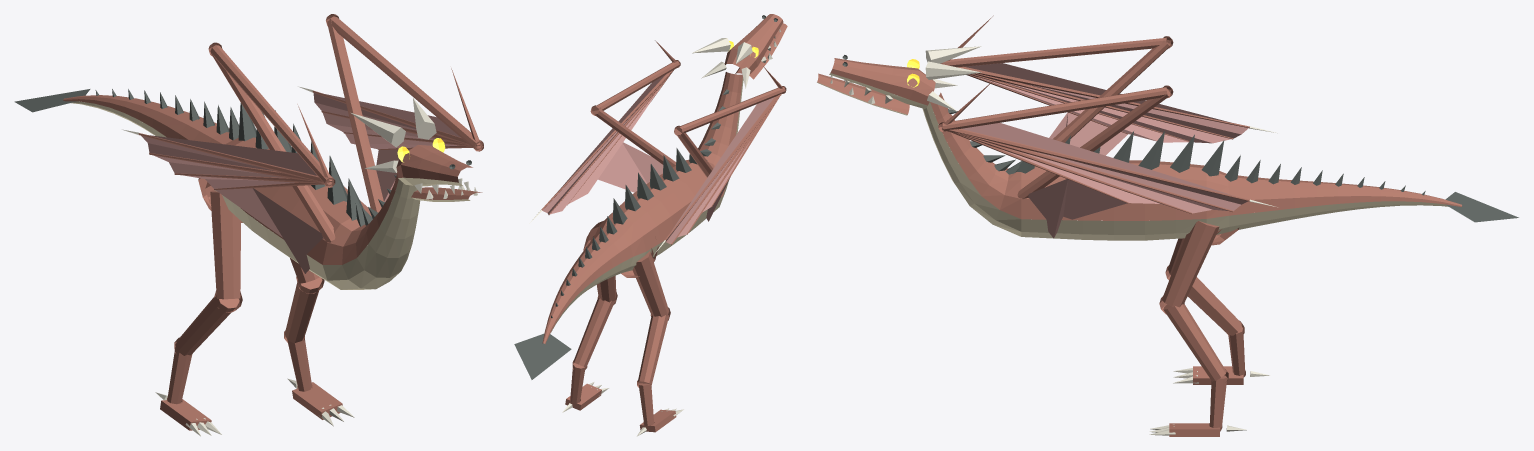
The model's file is dragons-and-wyverns-juvenile-wyvern-standing-4a9a4e8f__36721.glb.
3 views of the same model, side by side, from view 1: azimuth 30°, elevation 25°; view 2: azimuth 150°, elevation 25°; view 3: azimuth 270°, elevation 25° (orthographic). The views are drawn at different scales.
Visible parts, largest first — view 1: juvenile-wyvern-standing; view 2: juvenile-wyvern-standing; view 3: juvenile-wyvern-standing.
Boxes of the visible parts, x1=… form: juvenile-wyvern-standing: x1=14, y1=14, x2=483, y2=436; juvenile-wyvern-standing: x1=514, y1=14, x2=787, y2=436; juvenile-wyvern-standing: x1=817, y1=15, x2=1518, y2=436.
Size of the model in its own units: 0.6141 by 1.4 by 2.46.
